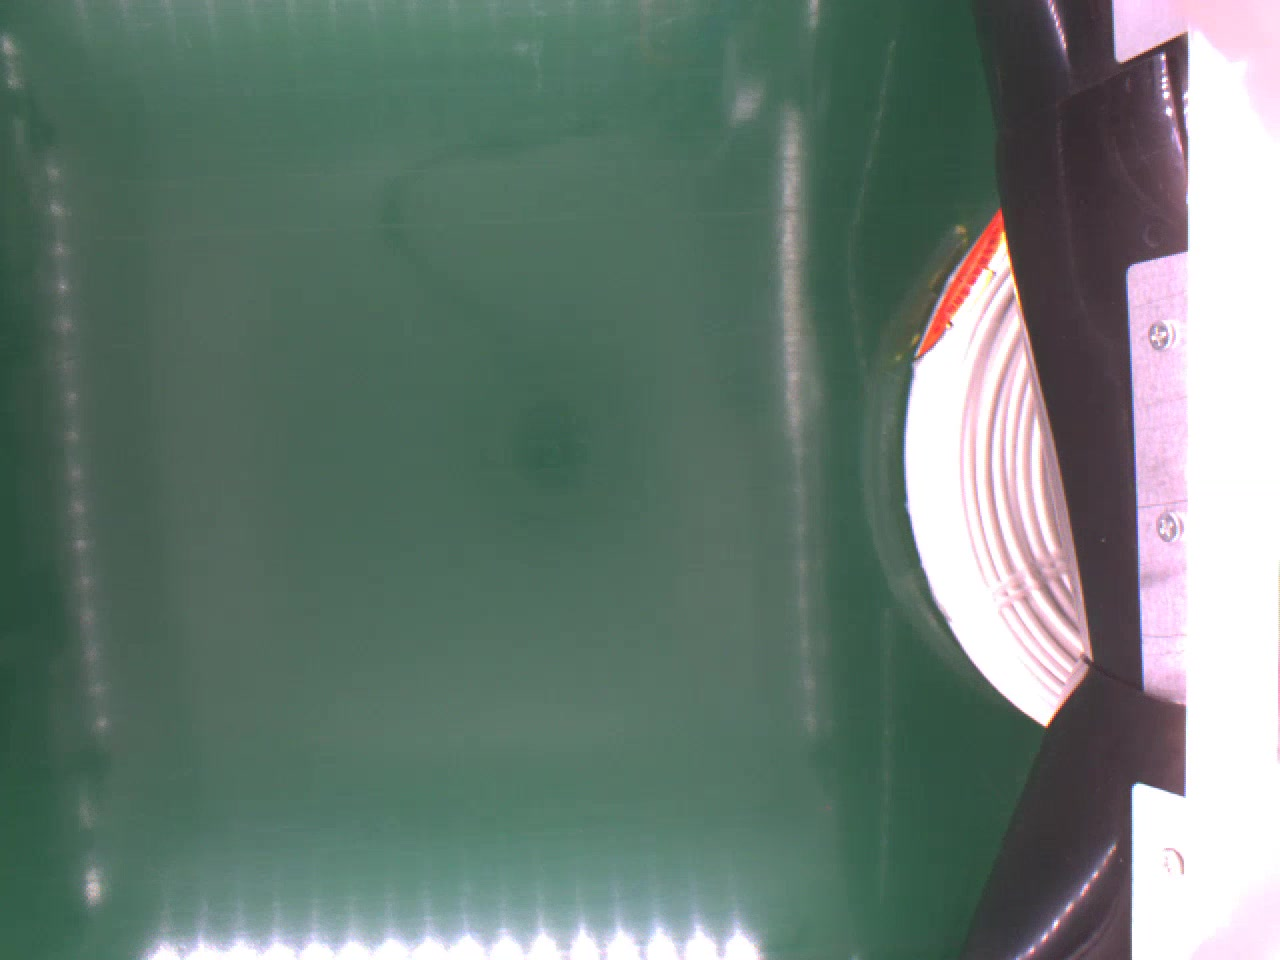white: (901, 207, 1086, 723)
